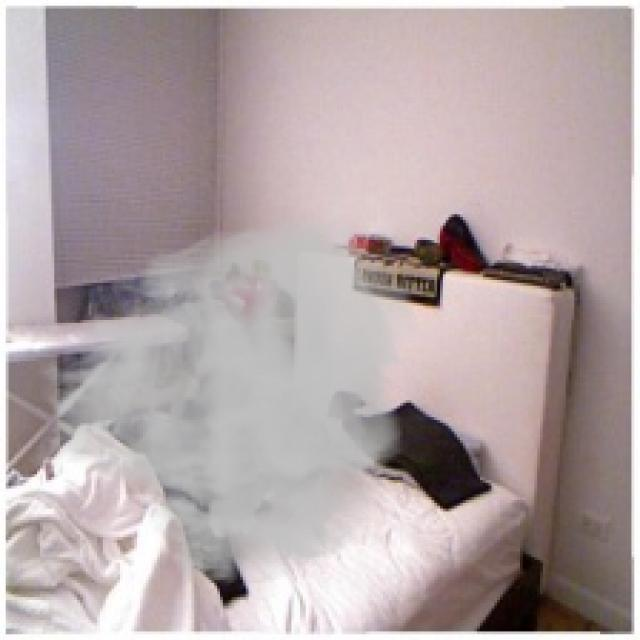Smoke: (26, 212, 423, 588)
